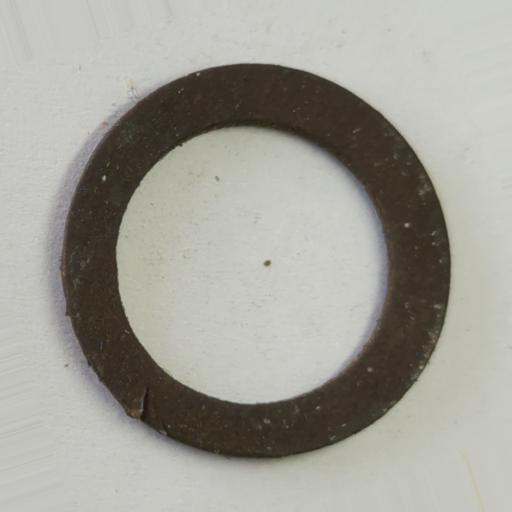defect: (132, 385, 151, 423)
